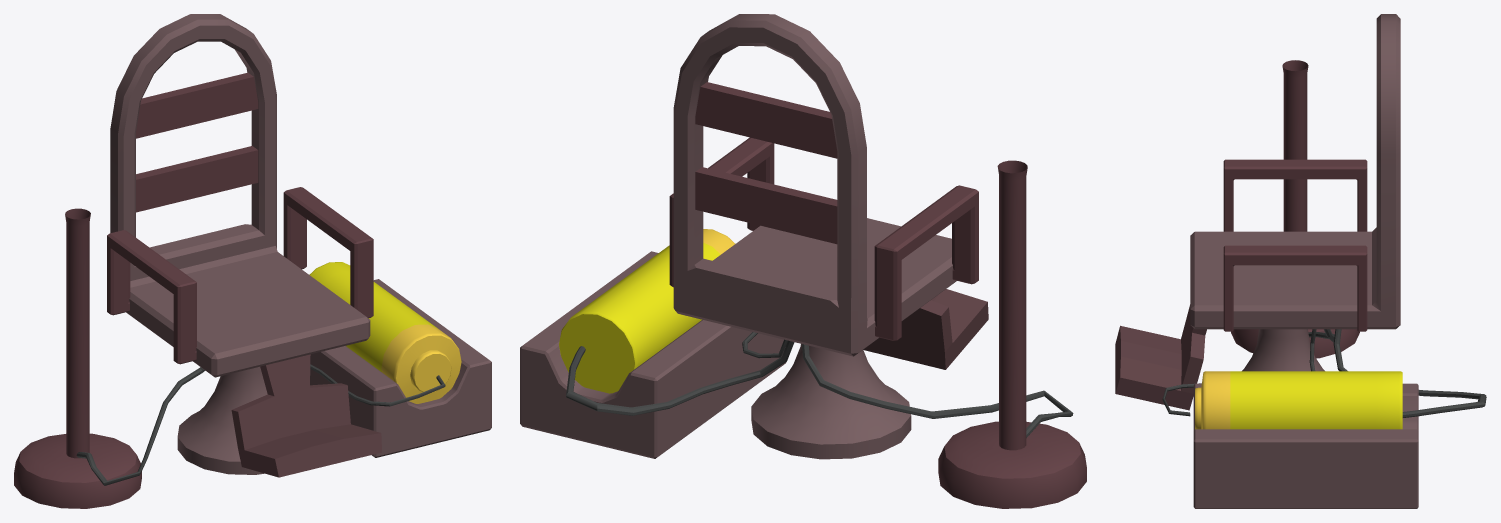
File: Electric Chair.fbx
The picture shows the model from 3 angles, left to right: view 1: azimuth 30°, elevation 25°; view 2: azimuth 150°, elevation 25°; view 3: azimuth 270°, elevation 25°; orthographic projection. The views are drawn at different scales.
Visible parts, largest first — view 1: Chair, Battery; view 2: Chair, Battery; view 3: Chair, Battery.
Part boxes in pixels (left/top/right/bottom): Chair: left=14, top=14, right=491, bottom=508; Battery: left=309, top=262, right=461, bottom=403; Chair: left=520, top=14, right=1086, bottom=508; Battery: left=559, top=229, right=735, bottom=393; Chair: left=1115, top=14, right=1486, bottom=508; Battery: left=1195, top=371, right=1402, bottom=429.
Size of the model in its own units: 4.6 by 4.1 by 3.53.
